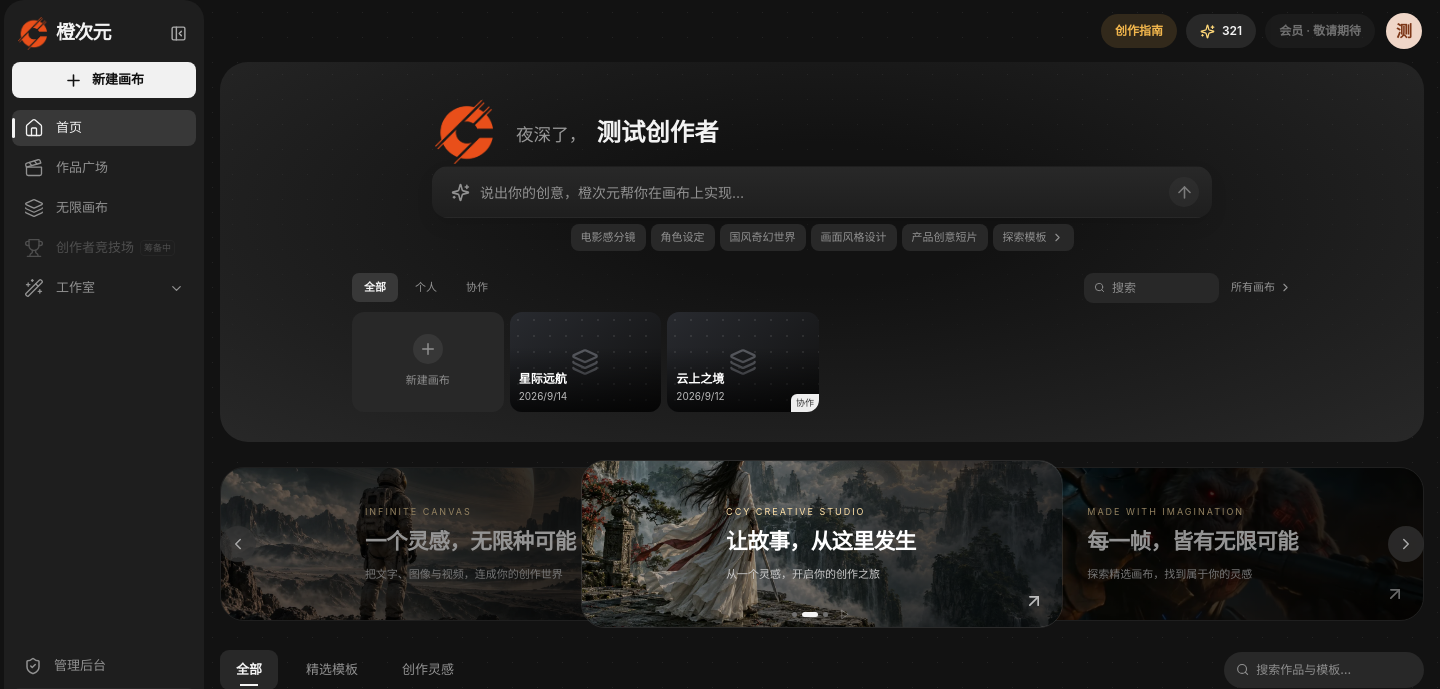
Scenario: home and account contracts › opens the one-click film workspace from Studio
Later steps or results of the test are not shown.
Click the button "工作室". click: (104, 288)
box: [12,270,196,306]
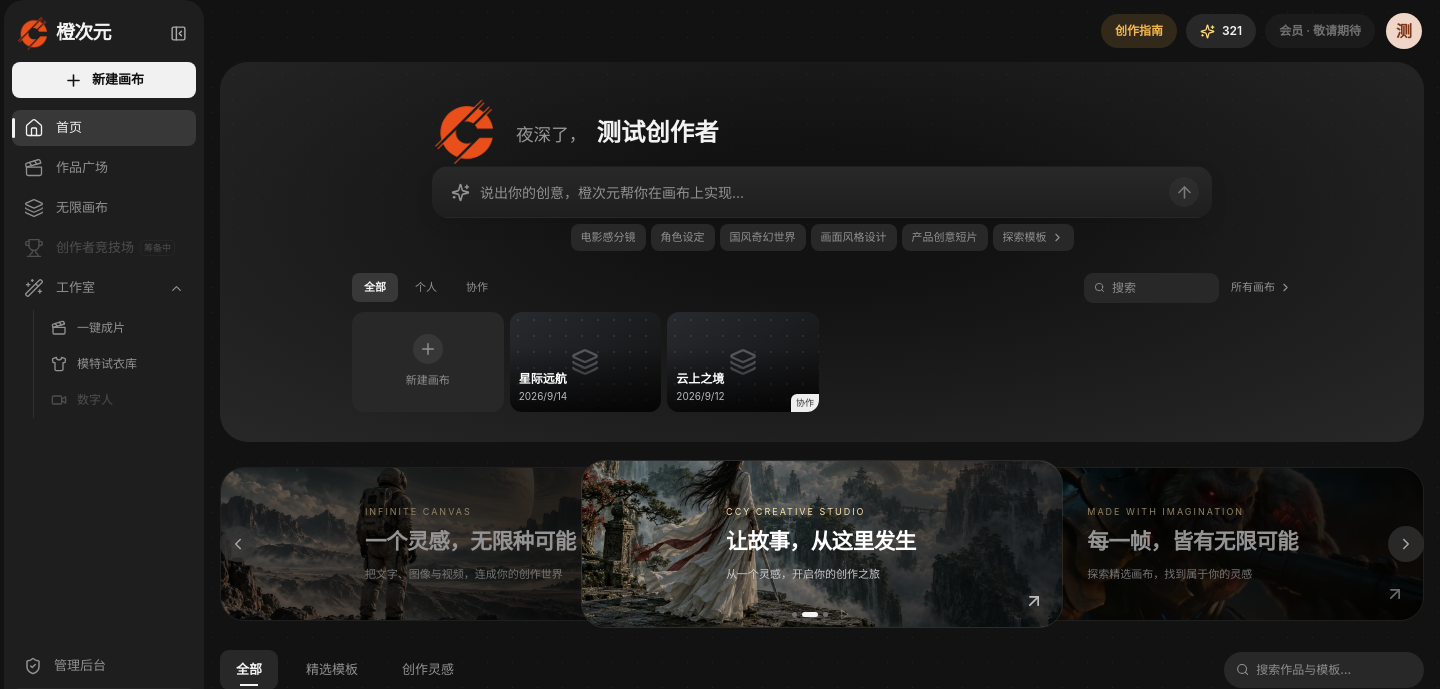
Expected: the button "一键成片" is shown, [38,310,196,346]
